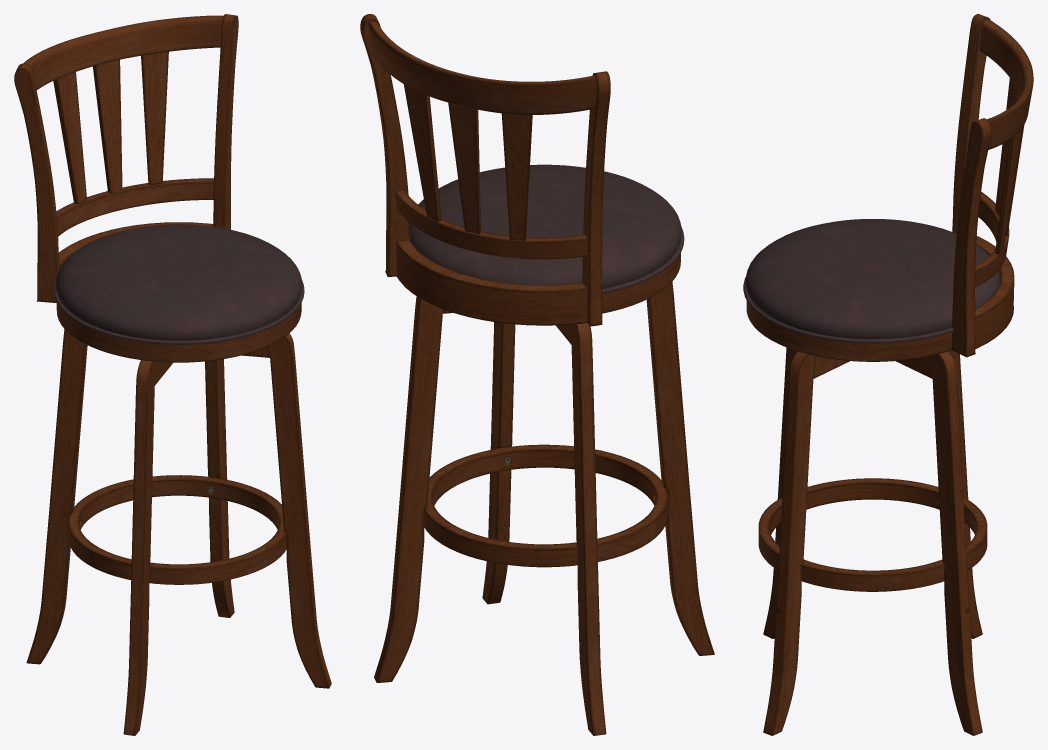
Rendered from stool_B07DBDX3VS.glb.
3 renders of one model, left to right at view 1: azimuth 30°, elevation 25°; view 2: azimuth 150°, elevation 25°; view 3: azimuth 270°, elevation 25°, orthographic. The views are drawn at different scales.
Parts seen in each view (by area): view 1: RootNode; view 2: RootNode; view 3: RootNode.
Boxes of the visible parts, x1,y1,x2,y2 form: RootNode: [14, 14, 331, 735]; RootNode: [360, 14, 714, 735]; RootNode: [743, 14, 1033, 735].
Bounding box in the file's own units: 0.4645 × 1.18 × 0.5027.
1 material, 1 textured.
